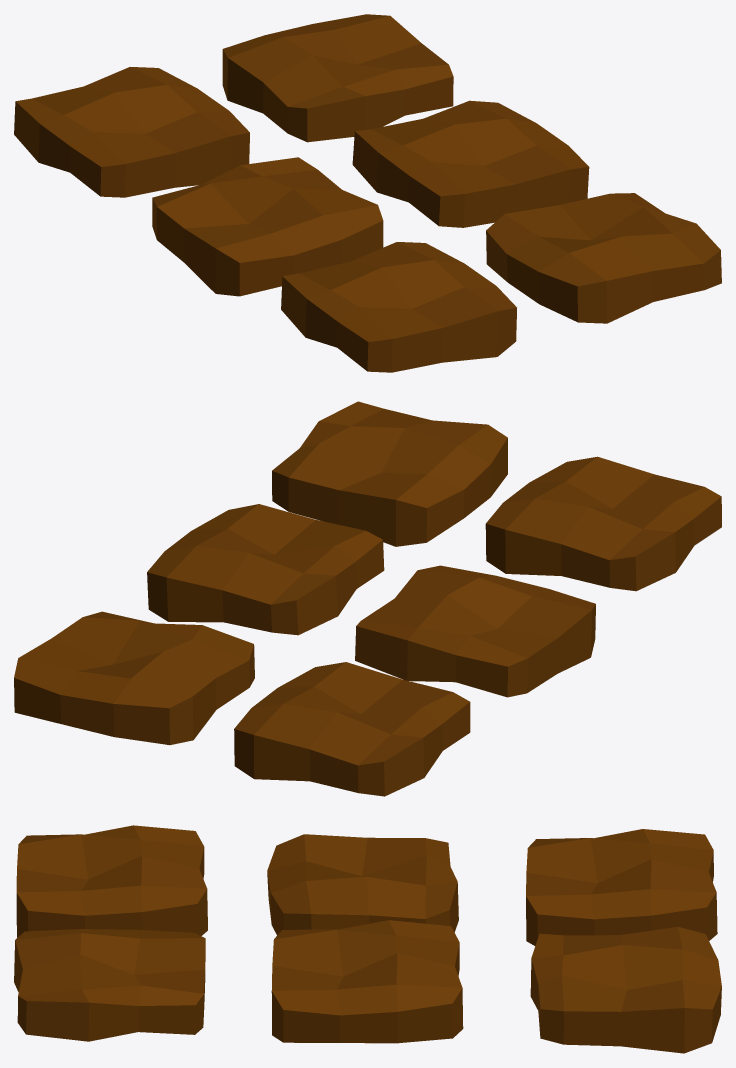
Rendered from seedbeds.glb.
3 views of the same model, one above another, from view 1: azimuth 30°, elevation 25°; view 2: azimuth 150°, elevation 25°; view 3: azimuth 270°, elevation 25° (orthographic). The views are drawn at different scales.
Visible parts, largest first — view 1: ground6, ground5, ground4, ground2, ground1, ground3; view 2: ground5, ground1, ground2, ground6, ground4, ground3; view 3: ground3, ground1, ground5, ground6, ground2, ground4.
Part boxes in pixels (x1,y1,x2,y2): ground6: (281, 242, 516, 372); ground5: (486, 193, 721, 323); ground4: (152, 157, 383, 296); ground2: (14, 67, 249, 197); ground1: (222, 14, 453, 142); ground3: (352, 100, 589, 227); ground5: (272, 401, 507, 546); ground1: (14, 611, 254, 745); ground2: (234, 662, 470, 796); ground6: (485, 456, 721, 591); ground4: (355, 565, 595, 697); ground3: (147, 504, 384, 635); ground3: (271, 920, 463, 1043); ground1: (530, 927, 721, 1053); ground5: (14, 929, 205, 1041); ground6: (16, 825, 207, 937); ground2: (526, 829, 717, 945); ground4: (267, 834, 458, 935).
Size of the model in its own units: 5.8 by 0.9973 by 9.37.
